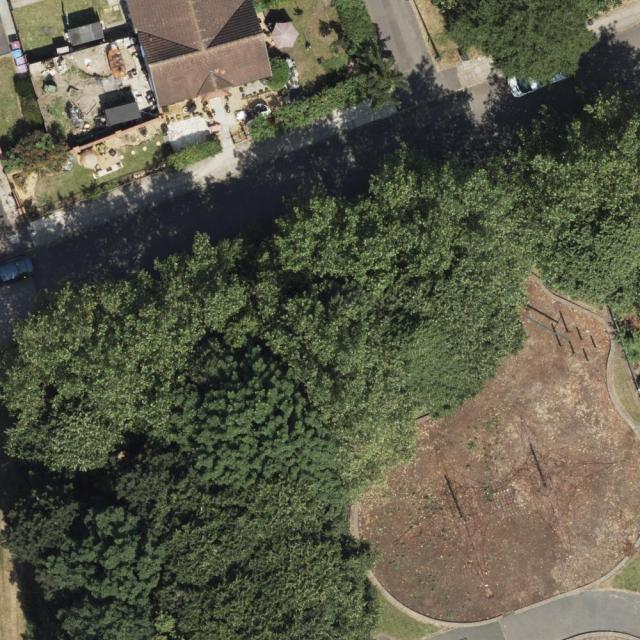roof: (126, 0, 273, 110)
